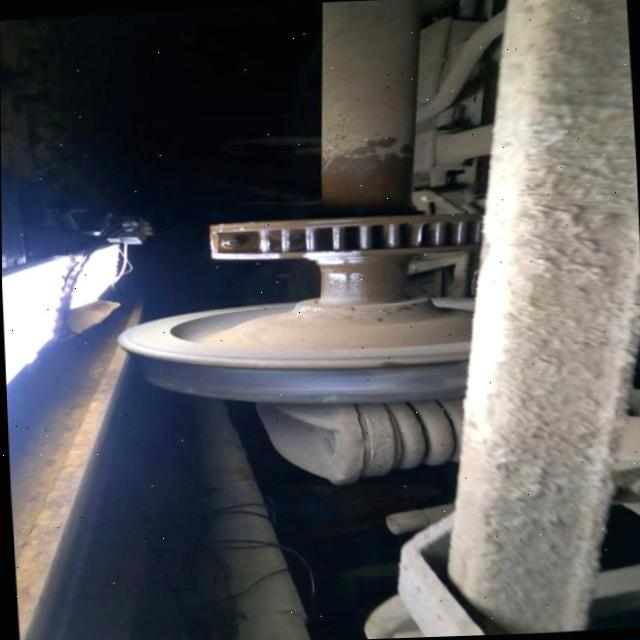Cracks-Scratches: (312, 394, 348, 403)
Wheel: (116, 296, 471, 404)
